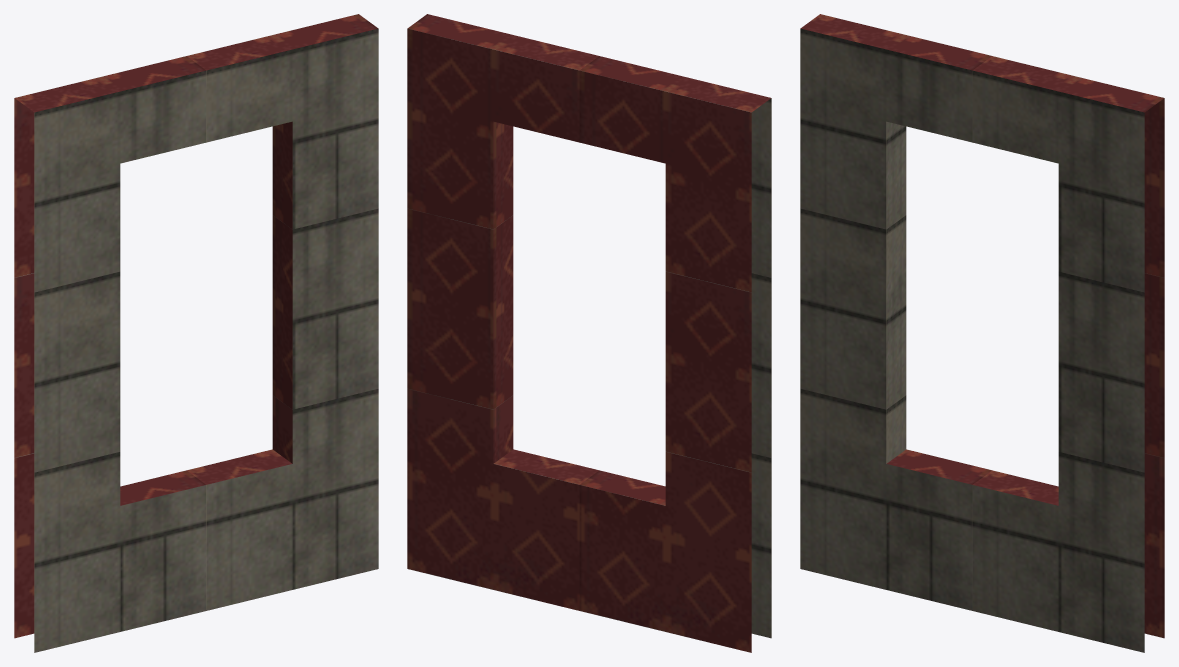
The model's file is SM_wall_window_service.fbx.
3 renders of one model, left to right at view 1: azimuth 30°, elevation 25°; view 2: azimuth 150°, elevation 25°; view 3: azimuth 330°, elevation 25°, orthographic.
Visible parts, largest first — view 1: wall_window_service; view 2: wall_window_service; view 3: wall_window_service.
Boxes of the visible parts, x1,y1,x2,y2 form: wall_window_service: (14, 14, 378, 652); wall_window_service: (407, 14, 771, 652); wall_window_service: (800, 14, 1164, 652).
Bounding box in the file's own units: 2 × 3 × 0.2.
